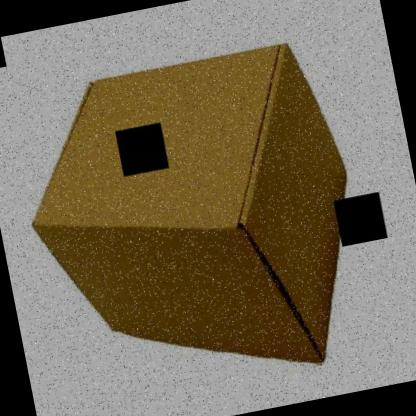box: (0, 36, 382, 414)
